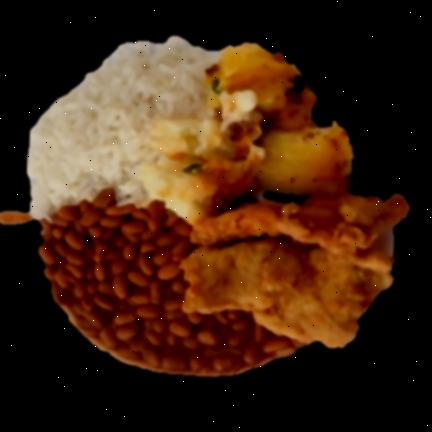beans: (40, 199, 301, 376)
cassava: (216, 44, 353, 195)
chicken: (181, 194, 409, 348)
rice: (28, 37, 216, 219)
